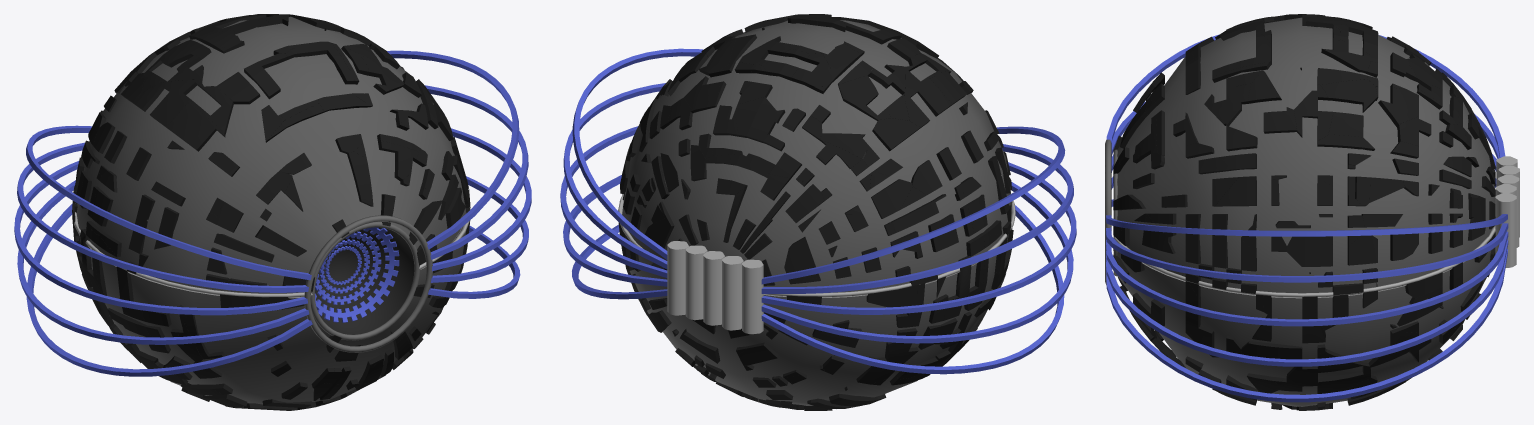
The model's file is Deathstar 40%.fbx.
The picture shows the model from 3 angles, left to right: view 1: azimuth 30°, elevation 25°; view 2: azimuth 150°, elevation 25°; view 3: azimuth 270°, elevation 25°; orthographic projection.
Parts seen in each view (by area): view 1: pSphere28, pCube11, pSphere8, pCylinder17, pTorus3, pTorus1, pSphere29_cell.297, pSphere29_cell.760, pTorus2, pSphere29_cell.091, pSphere29_cell.731, pSphere29_cell.411 (+18 smaller); view 2: pSphere28, pCube11, pCylinder19, pSphere29_cell.297, pSphere29_cell.417, pTorus2, pSphere29_cell.226, pSphere29_cell.314, pSphere29_cell.574, pSphere29_cell.135, pSphere29_cell.038, pSphere29_cell.730 (+24 smaller); view 3: pSphere28, pCube11, pCylinder19, pTorus2, pSphere29_cell.236, pSphere29_cell.096, pSphere29_cell.670, pSphere29_cell.302, pSphere29_cell.194, pSphere29_cell.754, pSphere29_cell.766, pSphere29_cell.327 (+43 smaller).
Part boxes in pixels (x1,y1,x2,y2): pSphere28: (76,16,466,404); pCube11: (14,50,531,376); pSphere8: (315,227,414,334); pCylinder17: (314,227,399,322); pTorus3: (304,215,432,352); pTorus1: (310,221,420,340); pSphere29_cell.297: (135,79,203,128); pSphere29_cell.760: (167,102,225,150); pTorus2: (74,207,469,298); pSphere29_cell.091: (285,41,354,84); pSphere29_cell.731: (244,53,287,99); pSphere29_cell.411: (347,152,373,206); pSphere28: (622,20,1012,405); pCube11: (560,48,1076,374); pCylinder19: (667,241,763,334); pSphere29_cell.297: (904,65,952,128); pSphere29_cell.417: (735,97,776,142); pTorus2: (618,194,1015,297); pSphere29_cell.226: (838,75,890,120); pSphere29_cell.314: (866,266,917,307); pSphere29_cell.574: (871,179,912,218); pSphere29_cell.135: (872,118,919,151); pSphere29_cell.038: (956,239,984,298); pSphere29_cell.730: (791,53,835,89); pSphere28: (1117,17,1495,406); pCube11: (1106,34,1508,402); pCylinder19: (1495,156,1519,267); pTorus2: (1113,186,1495,298); pSphere29_cell.236: (1317,349,1370,393); pSphere29_cell.096: (1320,79,1377,112); pSphere29_cell.670: (1318,278,1377,330); pSphere29_cell.302: (1294,84,1333,142); pSphere29_cell.194: (1204,83,1251,126); pSphere29_cell.754: (1378,87,1418,126); pSphere29_cell.766: (1185,297,1242,357); pSphere29_cell.327: (1212,237,1249,289).
Bounding box in the file's own units: 1457 × 1076 × 1131.
